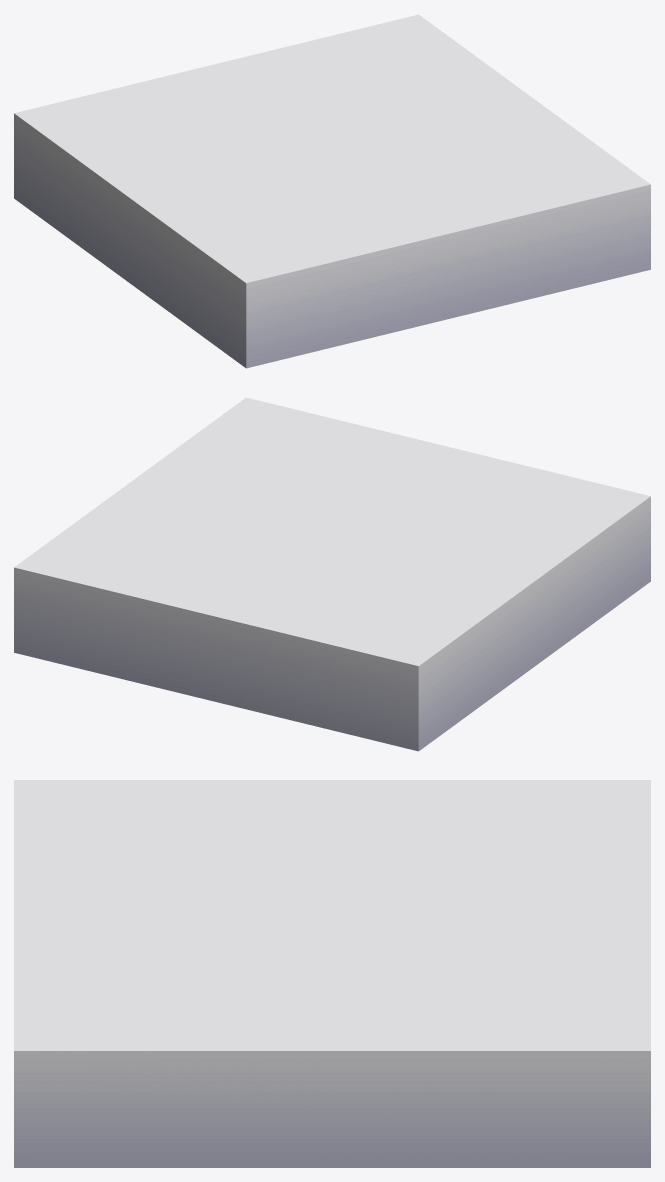
Rendered from brick-kit--none-lq-plate-2x2.glb.
3 renders of one model, top to bottom at view 1: azimuth 30°, elevation 25°; view 2: azimuth 150°, elevation 25°; view 3: azimuth 270°, elevation 25°, orthographic. The views are drawn at different scales.
Parts seen in each view (by area): view 1: none-lq-plate-2x2; view 2: none-lq-plate-2x2; view 3: none-lq-plate-2x2.
Boxes of the visible parts, left/top/right/bottom form: none-lq-plate-2x2: left=14, top=14, right=650, bottom=368; none-lq-plate-2x2: left=14, top=397, right=650, bottom=751; none-lq-plate-2x2: left=14, top=780, right=650, bottom=1167.
Size of the model in its own units: 0.159 by 0.032 by 0.158.
Materials: 1 (1 with a texture image).
